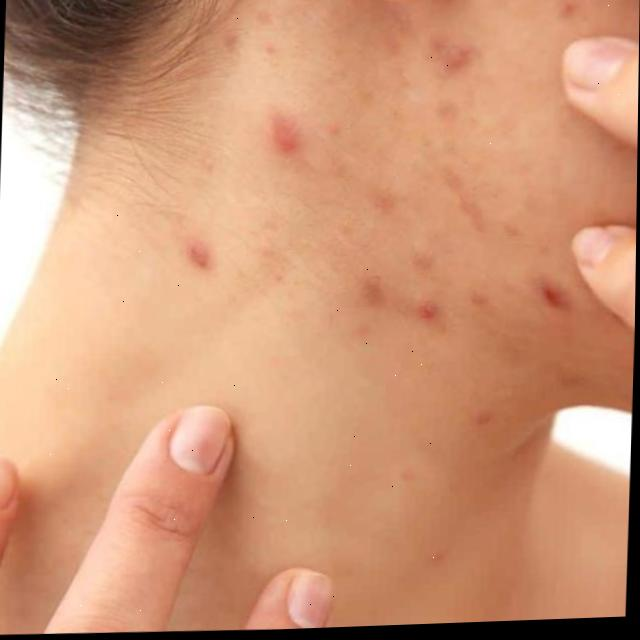Acne: (175, 0, 592, 332)
